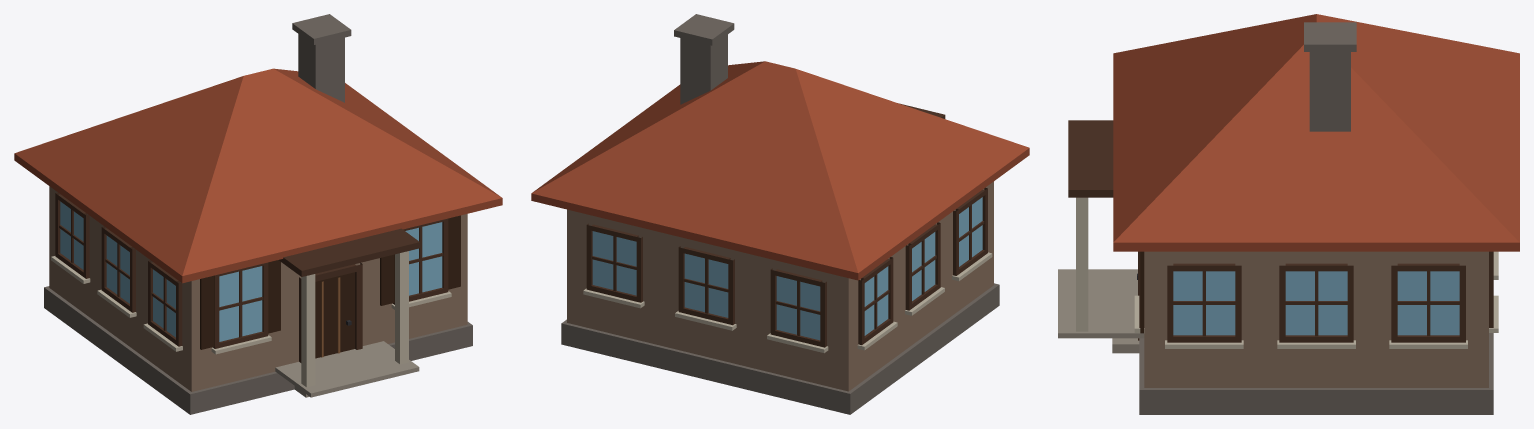
Rendered from house_07_hip_house.fbx.
3 views of the same model, side by side, from view 1: azimuth 30°, elevation 25°; view 2: azimuth 150°, elevation 25°; view 3: azimuth 270°, elevation 25° (orthographic). The views are drawn at different scales.
Parts seen in each view (by area): view 1: house_07_hip_house; view 2: house_07_hip_house; view 3: house_07_hip_house.
Boxes of the visible parts, left/top/right/bottom form: house_07_hip_house: left=14, top=14, right=502, bottom=414; house_07_hip_house: left=531, top=14, right=1029, bottom=414; house_07_hip_house: left=1058, top=14, right=1519, bottom=414.
Size of the model in its own units: 6.5 by 5.42 by 6.7.
